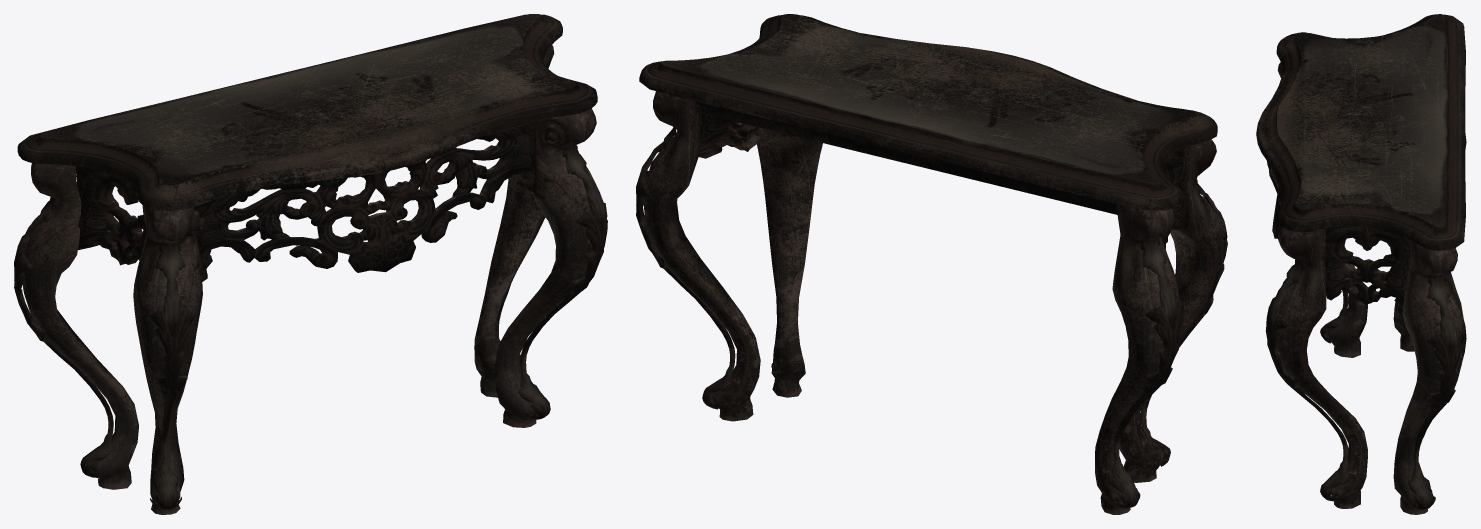
File: carved_console_table.glb
3 views of the same model, side by side, from view 1: azimuth 30°, elevation 25°; view 2: azimuth 150°, elevation 25°; view 3: azimuth 270°, elevation 25° (orthographic). The views are drawn at different scales.
Parts seen in each view (by area): view 1: ClassicConsole_01_mesh; view 2: ClassicConsole_01_mesh; view 3: ClassicConsole_01_mesh.
Part boxes in pixels (bbox=[...]): ClassicConsole_01_mesh: bbox=[14, 14, 607, 514]; ClassicConsole_01_mesh: bbox=[636, 14, 1227, 514]; ClassicConsole_01_mesh: bbox=[1256, 14, 1466, 514].
Bounding box in the file's own units: 1.54 × 0.9491 × 0.5893.
Materials: 1 (1 with a texture image).
